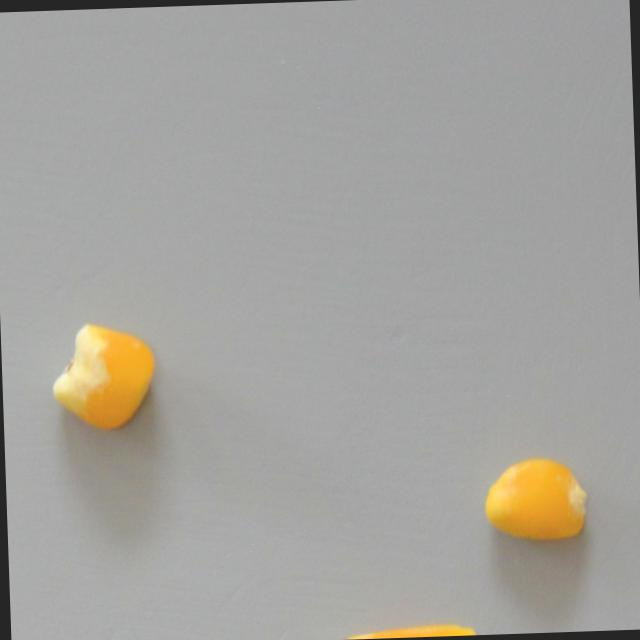estandar: (471, 451, 594, 551), (327, 605, 487, 640)
punto_negro: (45, 314, 157, 435)
